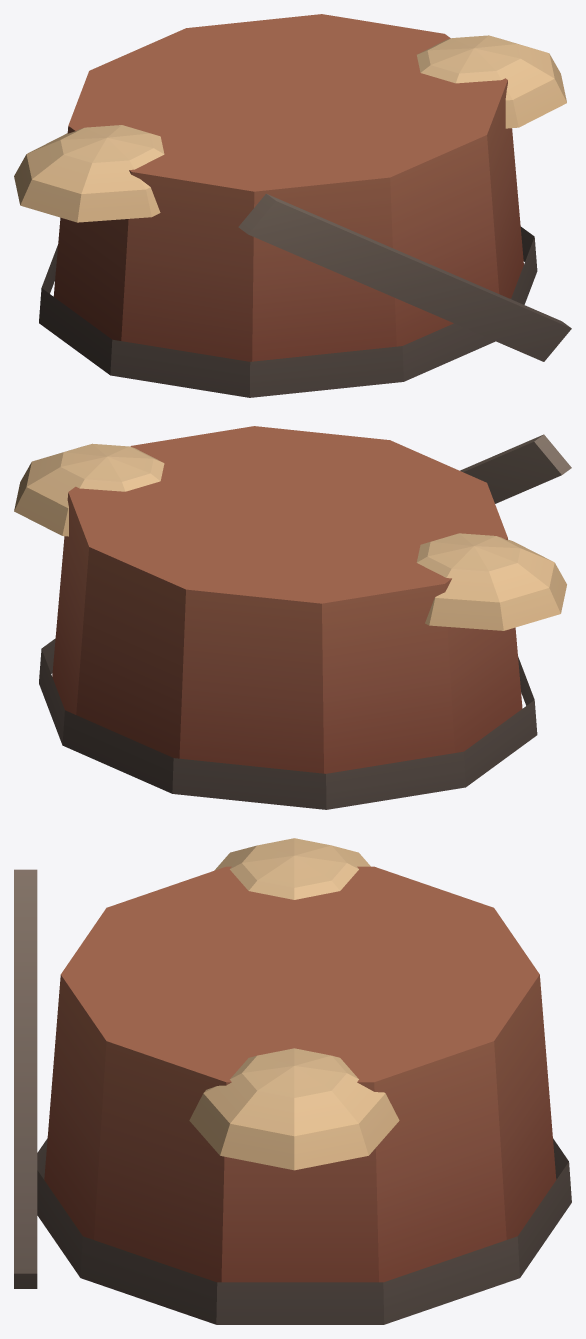
File: berserker_hunter_chest_t1.glb
3 views of the same model, one above another, from view 1: azimuth 30°, elevation 25°; view 2: azimuth 150°, elevation 25°; view 3: azimuth 270°, elevation 25° (orthographic). The views are drawn at different scales.
Visible parts, largest first — view 1: berserker_hunter_chest_t1__chest; view 2: berserker_hunter_chest_t1__chest; view 3: berserker_hunter_chest_t1__chest.
Part boxes in pixels (<box>): berserker_hunter_chest_t1__chest: <box>14,14,571,397</box>; berserker_hunter_chest_t1__chest: <box>14,426,571,809</box>; berserker_hunter_chest_t1__chest: <box>14,838,571,1324</box>.
Size of the model in its own units: 2.69 by 1.08 by 2.05.
1 material, 1 textured.
